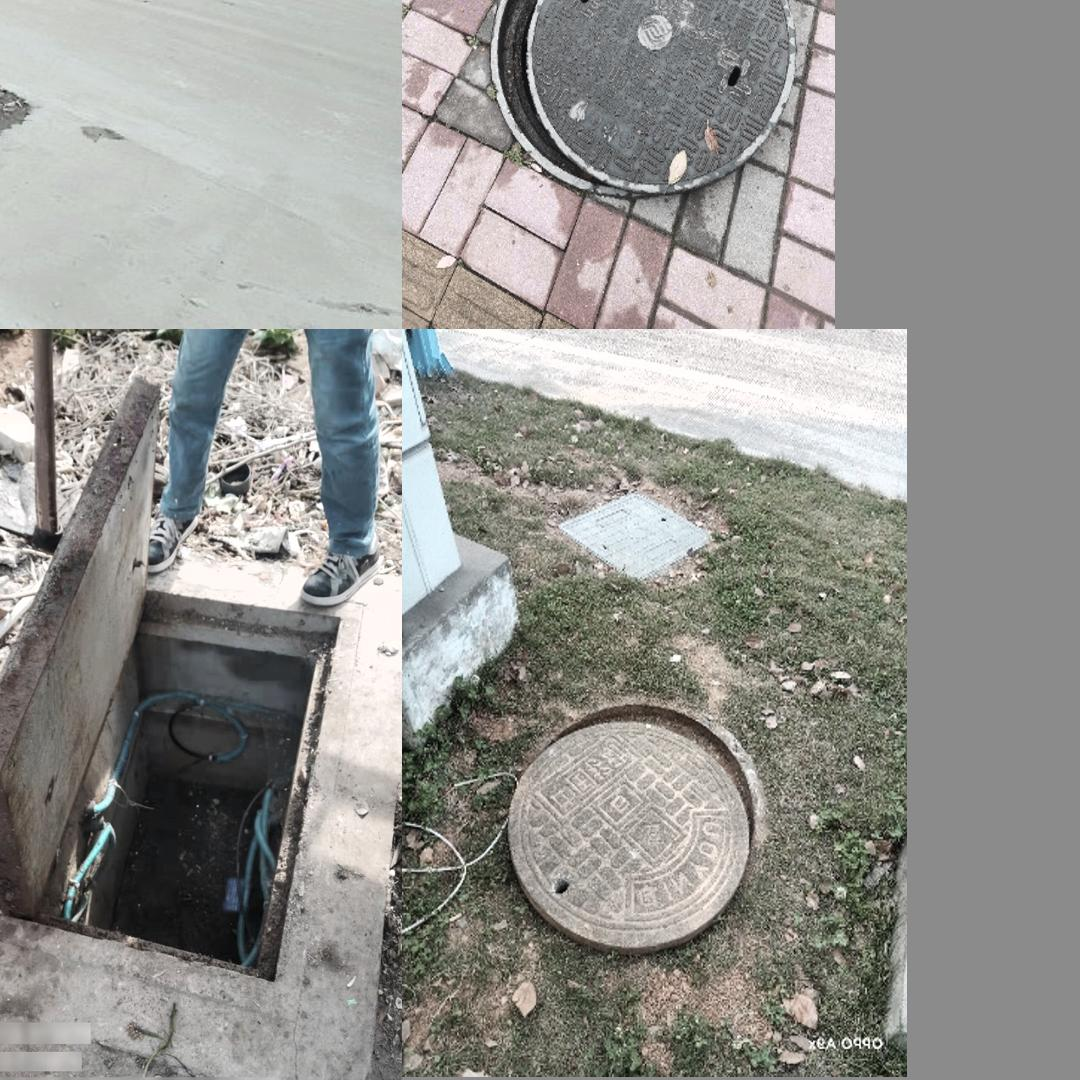uncovered: (0, 366, 347, 975), (506, 692, 765, 951), (489, 0, 796, 195)
